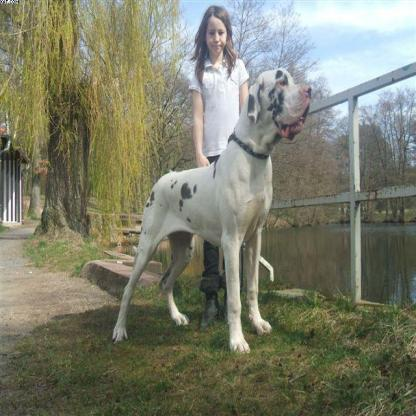Great_Dane: (110, 62, 311, 351)
